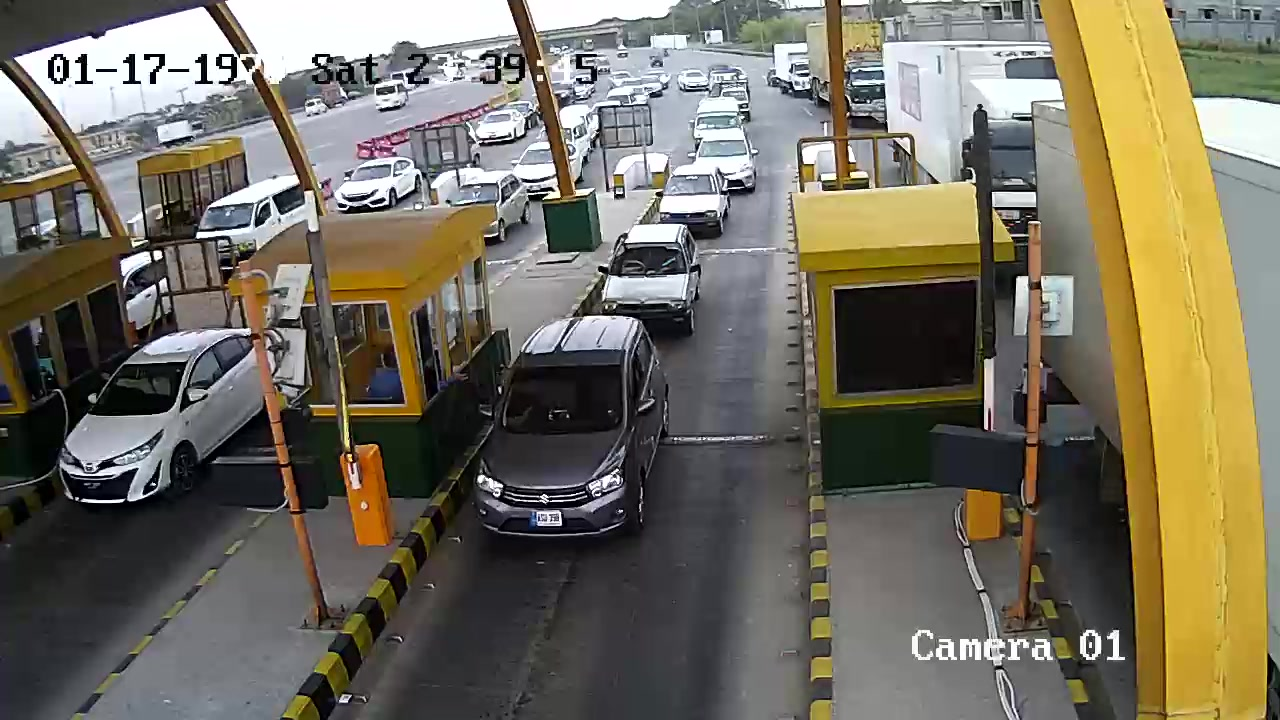F1: (472, 312, 677, 551), (602, 223, 701, 332)
